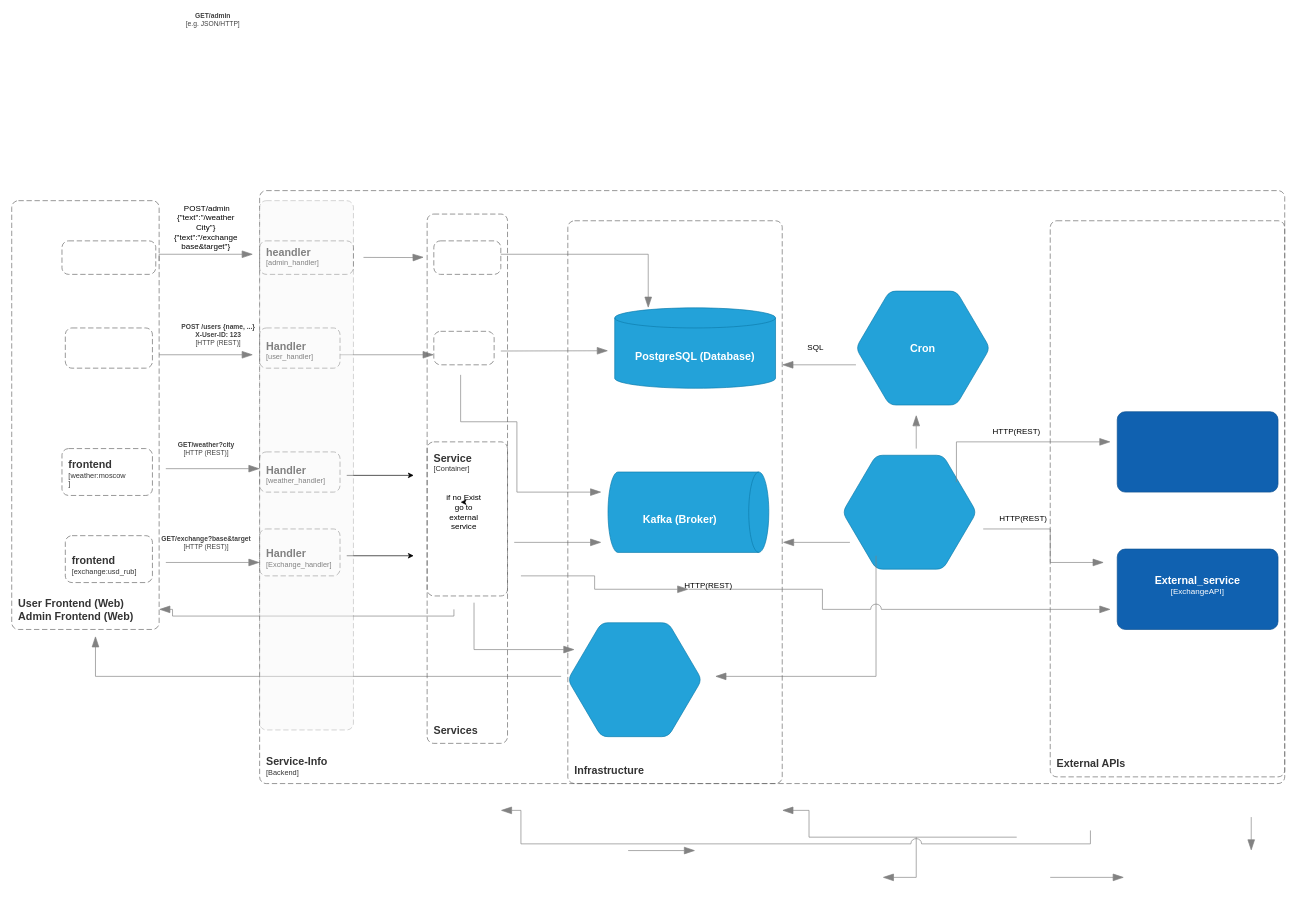
This 1296x900 diagram has some shape labels left out. The shapes that lost their labels are listed below. From the top down, each one's centre as x and y in pixels, then its label:
At [108,257]: "frontend [admin]".
At [467,257]: "service [admin_service]".
At [108,347]: "frontend [user]".
At [463,348]: "service [user_service]".
At [306,465]: "Handlers".
At [1197,451]: "External_service [weatherAPI]".
At [909,512]: "worker".
At [634,679]: "Redis (Cache)".
